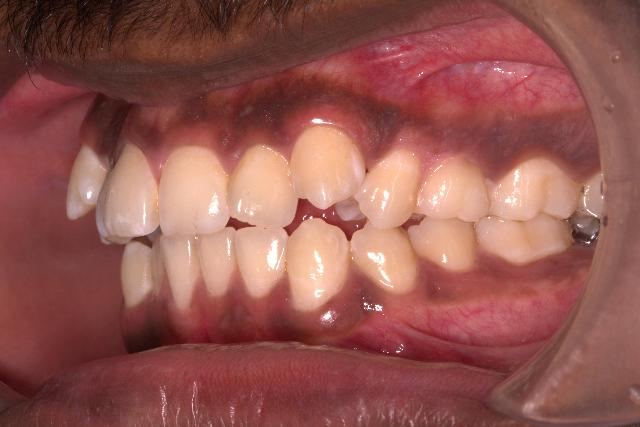canine class II 1/4: (284, 117, 416, 312)
molar class I: (472, 141, 584, 267)
